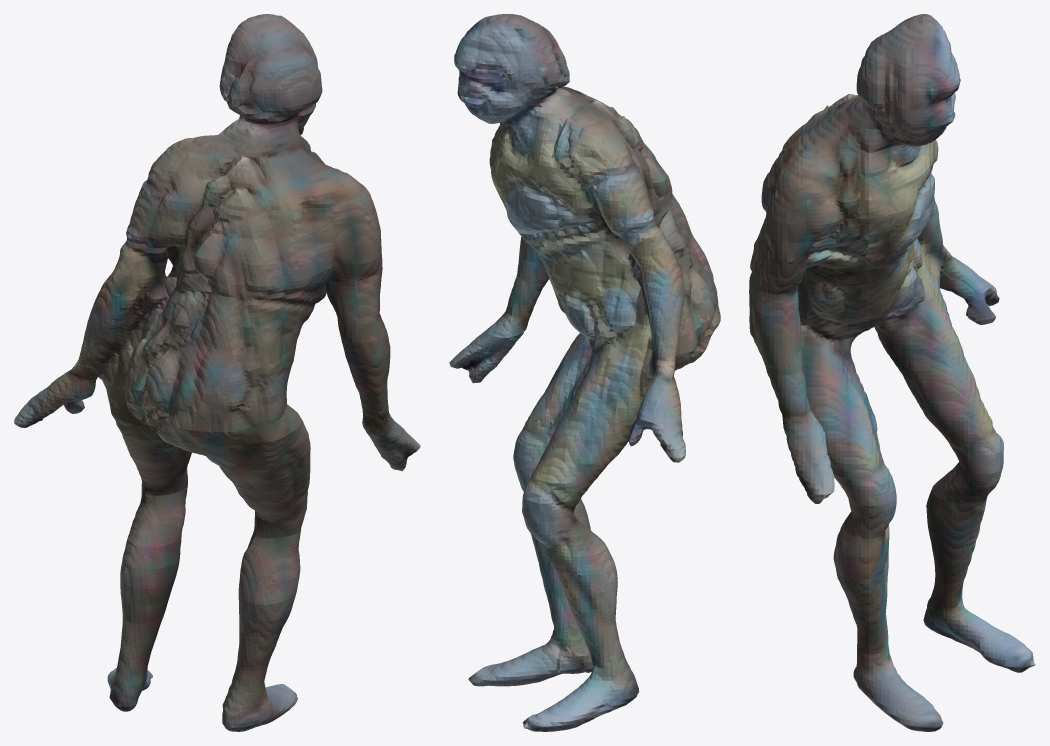
The model's file is ghost_3d2.glb.
3 views of the same model, side by side, from view 1: azimuth 30°, elevation 25°; view 2: azimuth 150°, elevation 25°; view 3: azimuth 270°, elevation 25° (orthographic). The views are drawn at different scales.
Parts seen in each view (by area): view 1: world; view 2: world; view 3: world.
Boxes of the visible parts, left/top/right/bottom form: world: left=14, top=14, right=420, bottom=731; world: left=449, top=14, right=720, bottom=731; world: left=749, top=14, right=1035, bottom=731.
Bounding box in the file's own units: 0.4957 × 1.02 × 0.3784.
